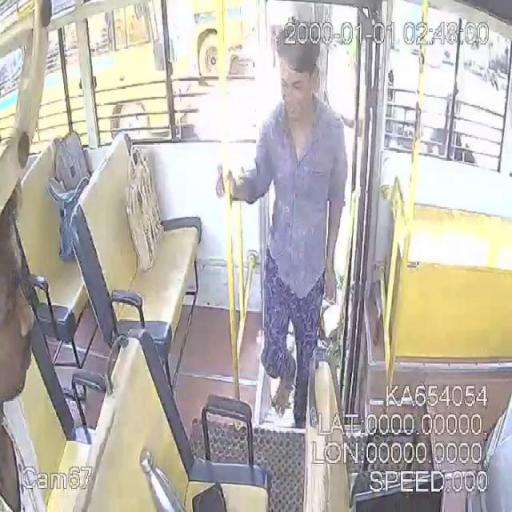persona: (215, 18, 350, 428)
